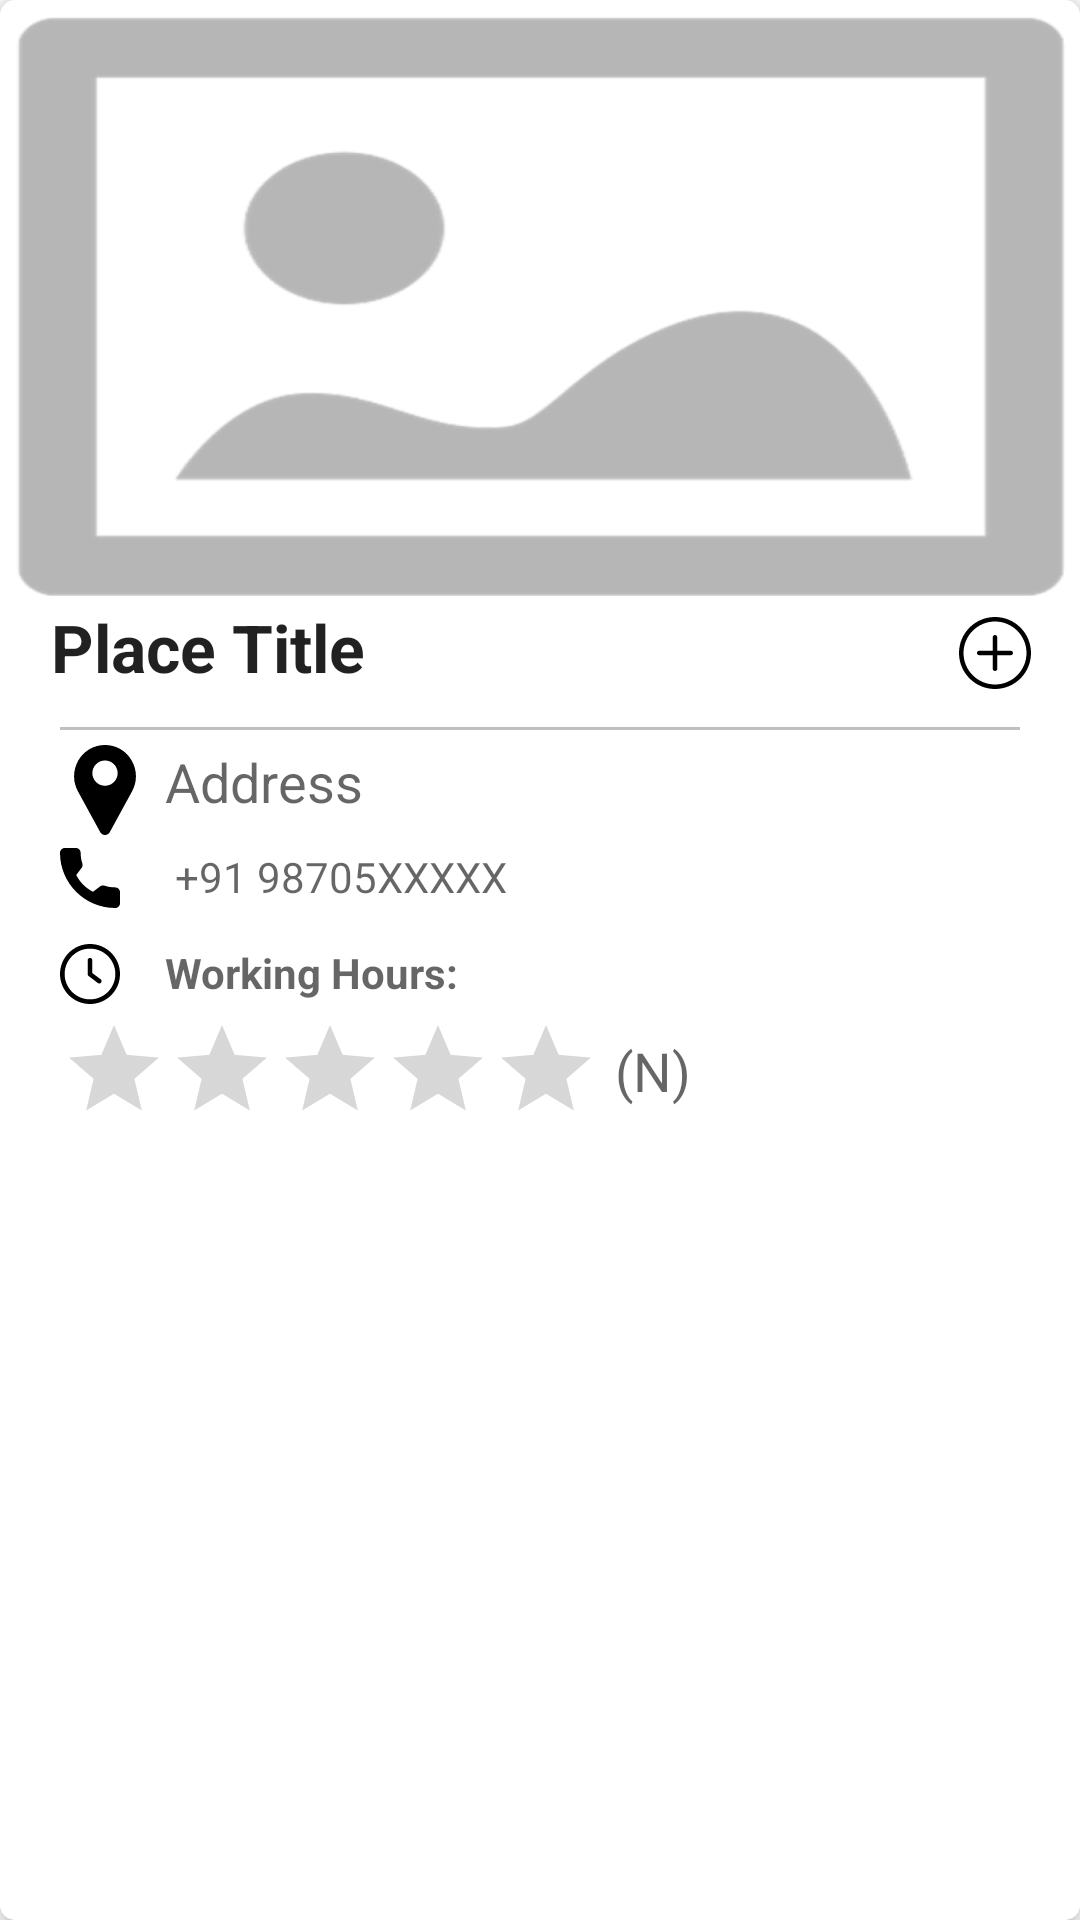

Named icons in this screenshot (1080×1920) and their bounding boxes, (x1, y1, x2, y2):
call: (60, 848, 120, 908)
location: (74, 745, 136, 835)
plus: (959, 617, 1031, 689)
